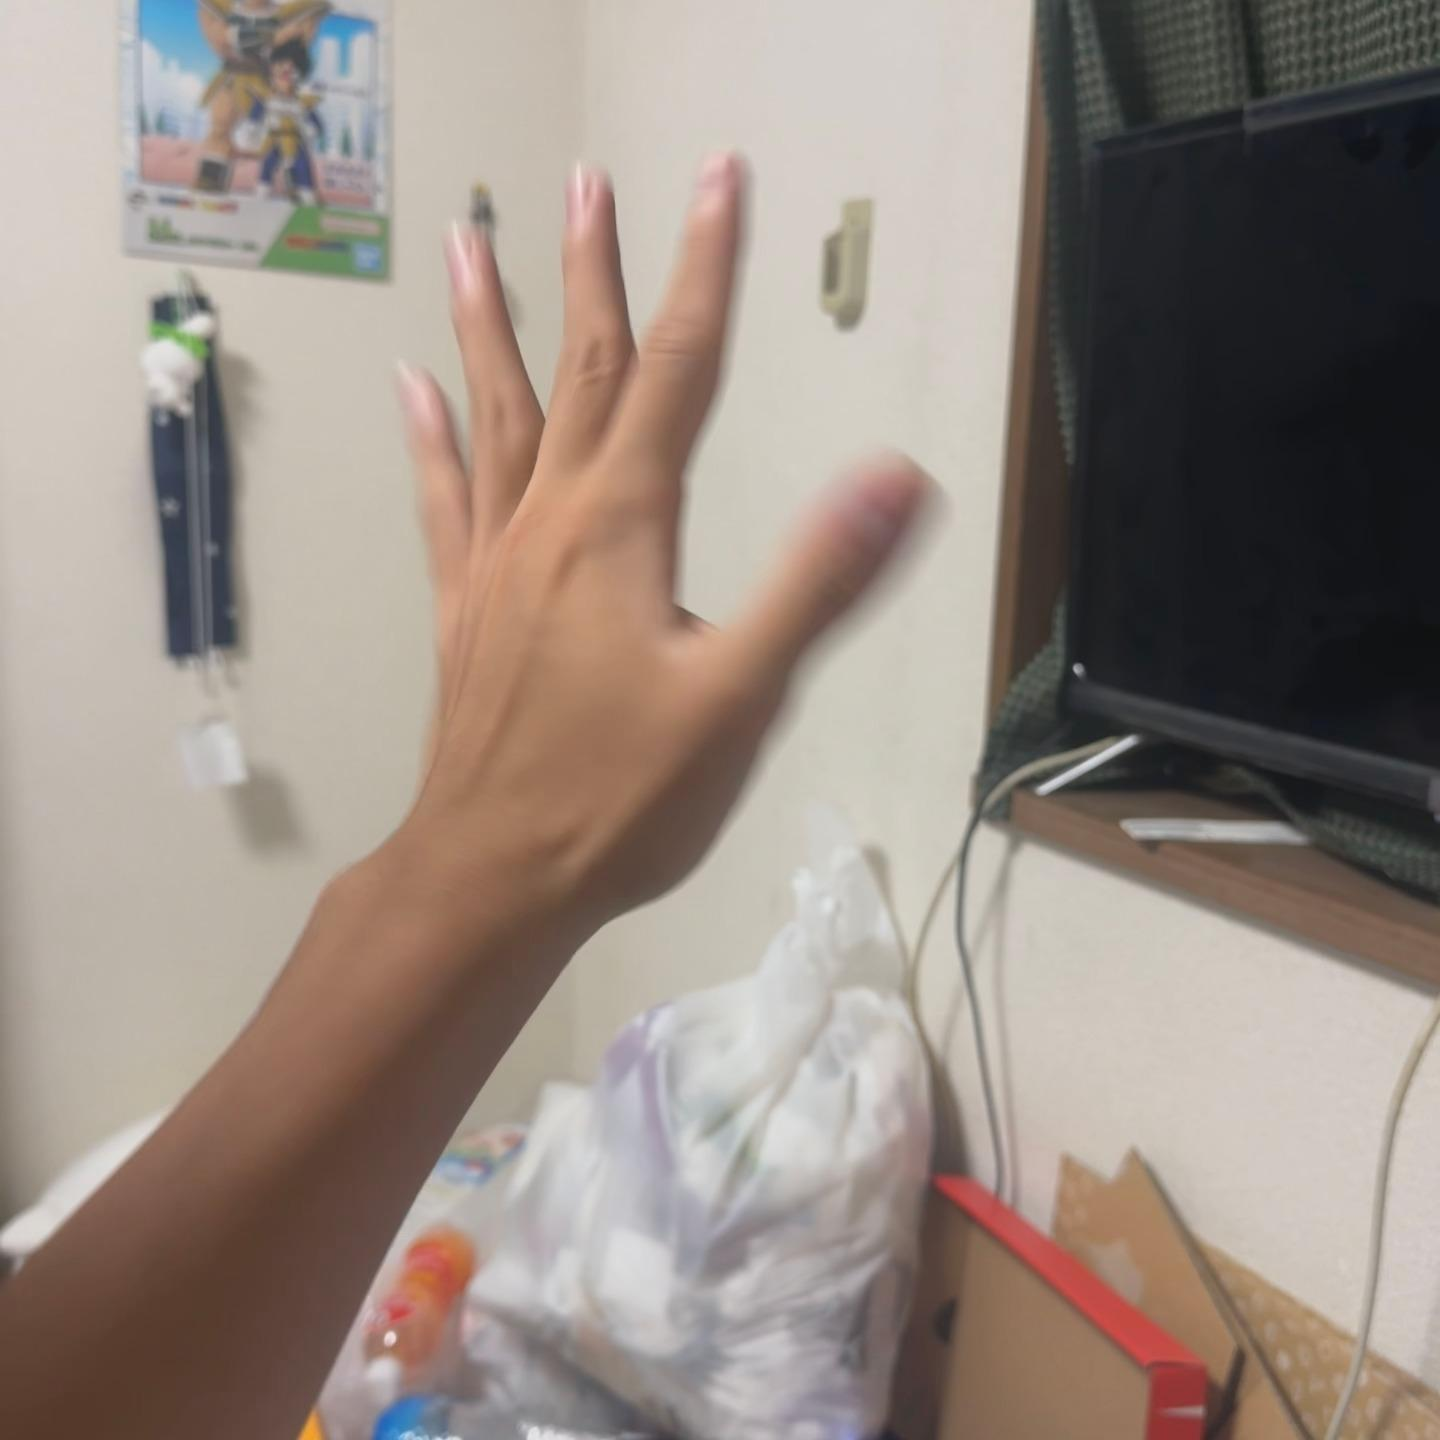without_gloves: (131, 40, 1133, 1199)
